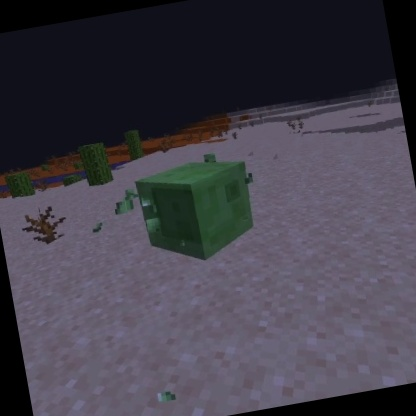slime: (127, 149, 265, 274)
